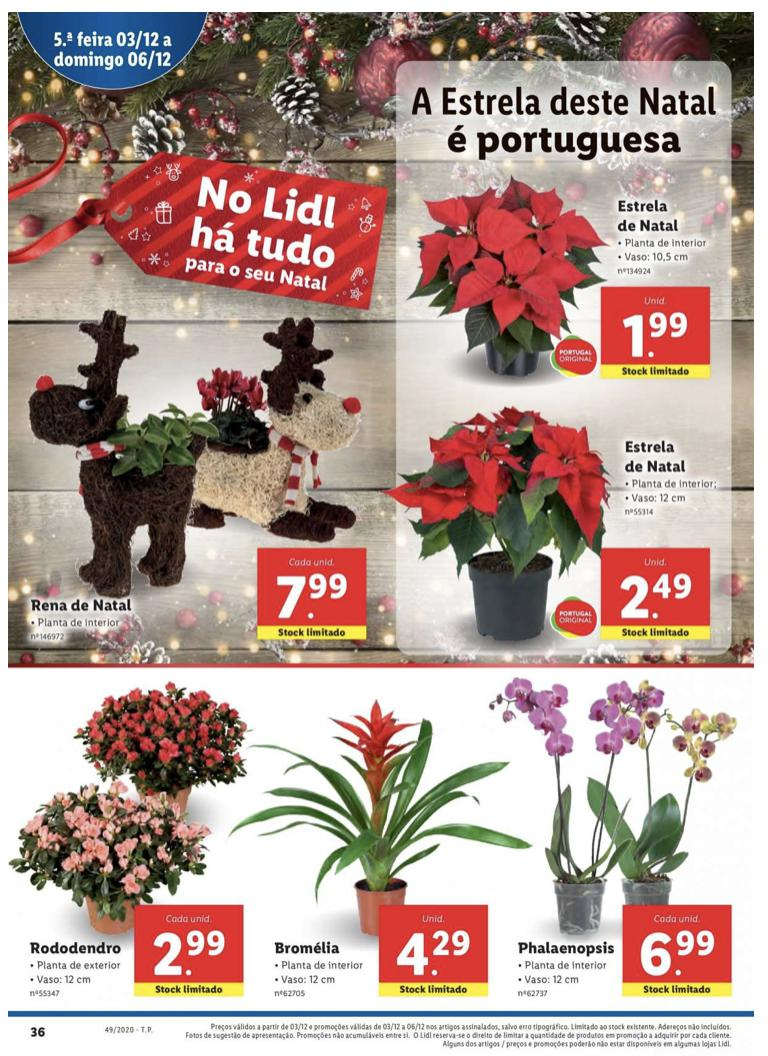name: (615, 194, 684, 237), (621, 438, 690, 479), (28, 591, 139, 615), (24, 936, 126, 959), (511, 936, 621, 957), (268, 936, 339, 959)
price: (146, 924, 232, 982), (615, 303, 693, 359), (394, 924, 472, 980), (610, 569, 697, 619), (272, 570, 352, 623), (636, 927, 719, 977)
product: (21, 307, 376, 652), (497, 675, 753, 1007), (397, 404, 723, 648), (7, 683, 249, 1005), (263, 690, 507, 1002), (399, 170, 722, 390)
